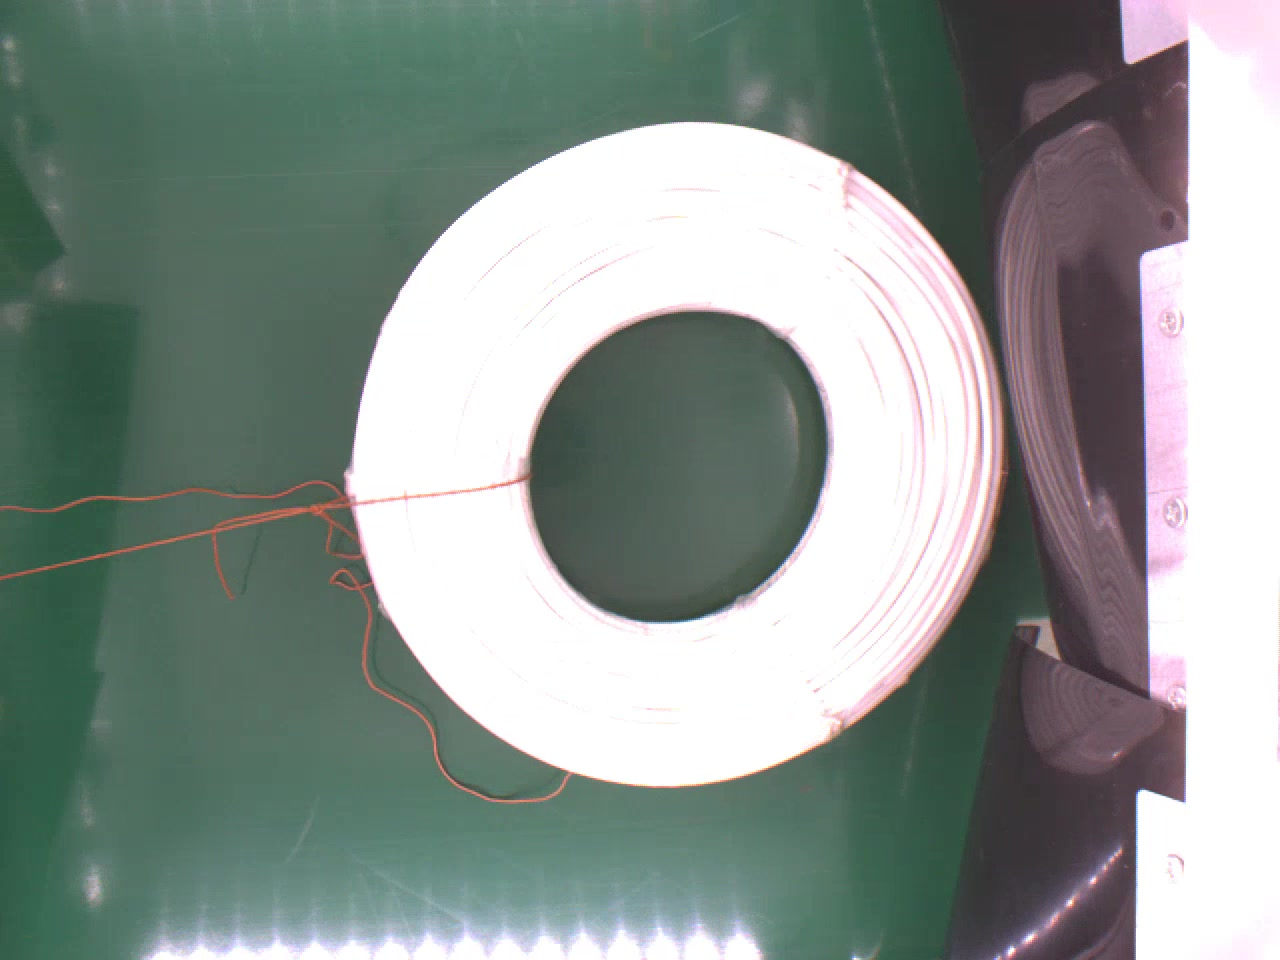white: (340, 106, 1008, 787)
